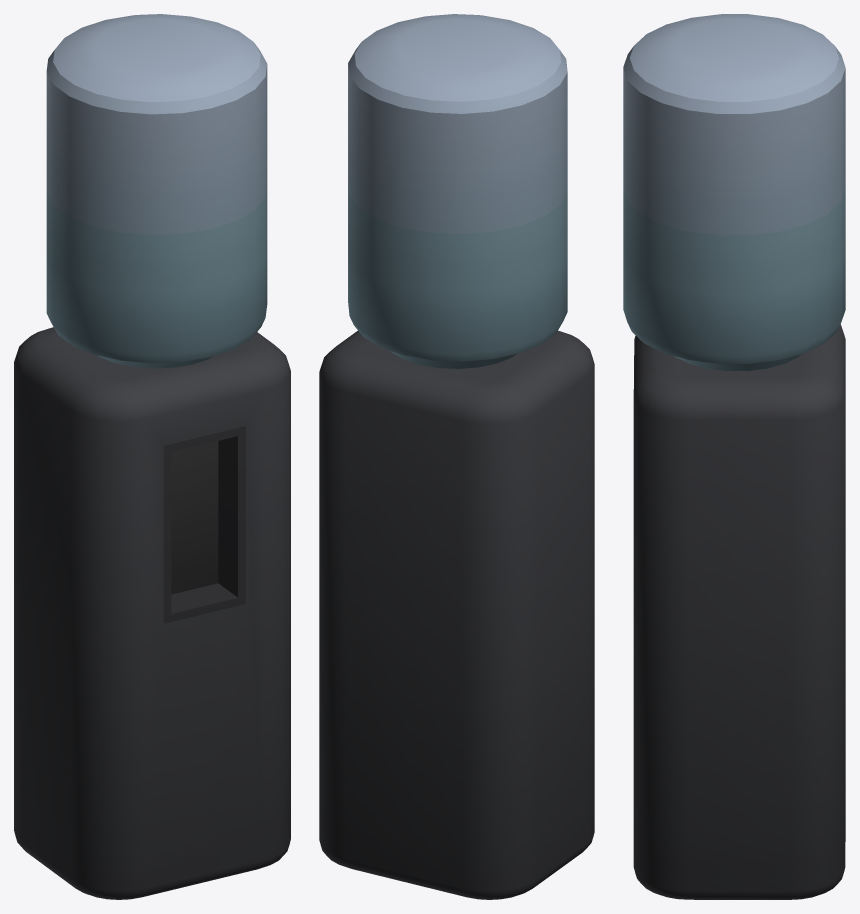
Rendered from water_dispencer.fbx.
3 views of the same model, side by side, from view 1: azimuth 30°, elevation 25°; view 2: azimuth 150°, elevation 25°; view 3: azimuth 270°, elevation 25° (orthographic).
Parts seen in each view (by area): view 1: Waterdispencer; view 2: Waterdispencer; view 3: Waterdispencer.
Part boxes in pixels (<box>): Waterdispencer: <box>14,14,290,899</box>; Waterdispencer: <box>319,14,594,899</box>; Waterdispencer: <box>623,14,845,899</box>.
Bounding box in the file's own units: 61.52 × 225 × 55.66.
